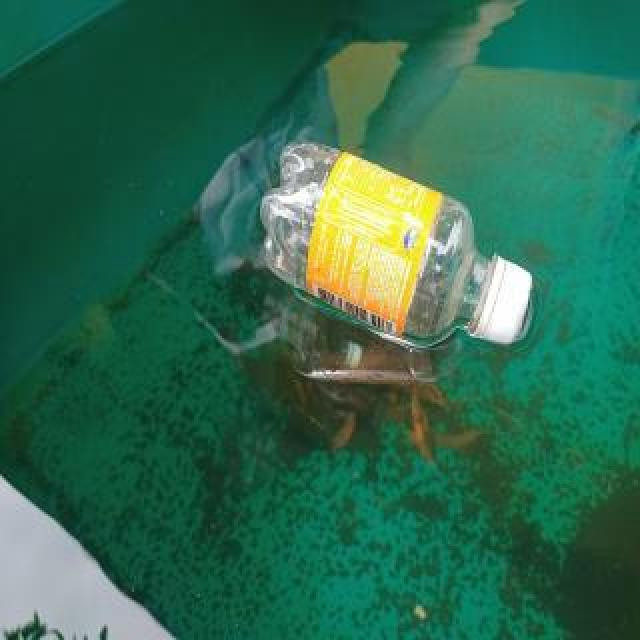bottle: (251, 133, 541, 369)
